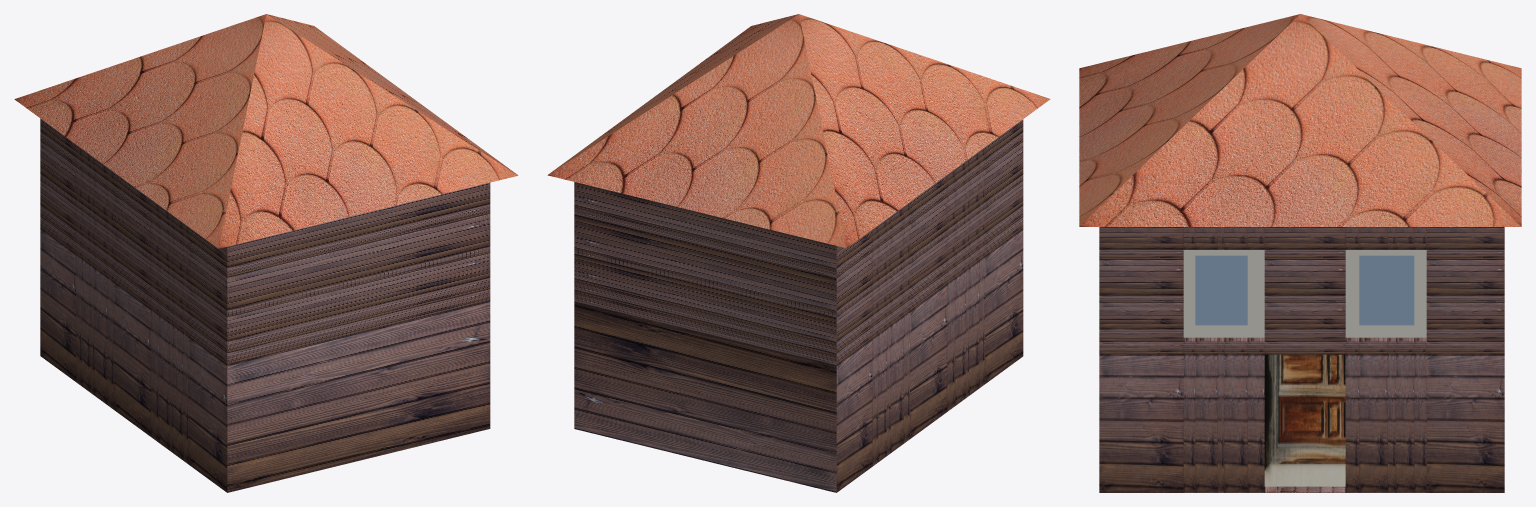
Rendered from haus5.fbx.
3 views of the same model, side by side, from view 1: azimuth 30°, elevation 25°; view 2: azimuth 150°, elevation 25°; view 3: azimuth 270°, elevation 25° (orthographic). The views are drawn at different scales.
Parts seen in each view (by area): view 1: haus; view 2: haus; view 3: haus.
Boxes of the visible parts, bbox=[...] form: haus: bbox=[14, 14, 518, 492]; haus: bbox=[547, 14, 1050, 492]; haus: bbox=[1079, 14, 1521, 492].
Bounding box in the file's own units: 1173 × 994 × 1199.
Materials: 5 (3 with a texture image).
